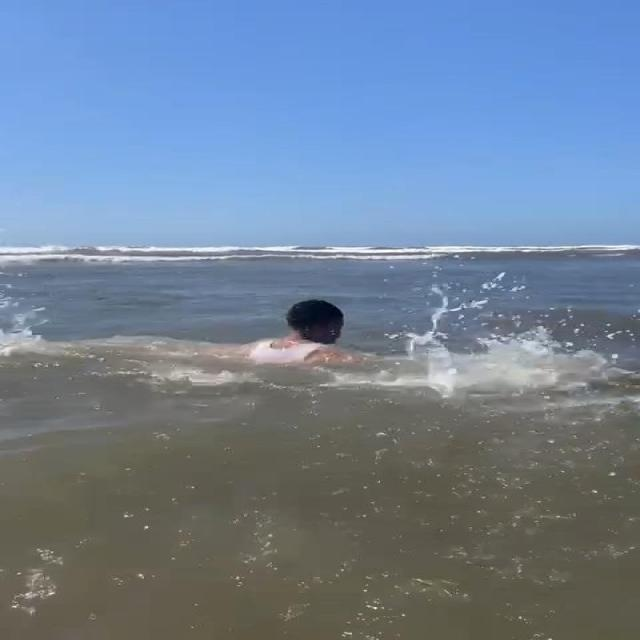Out of Water: (236, 288, 371, 368)
